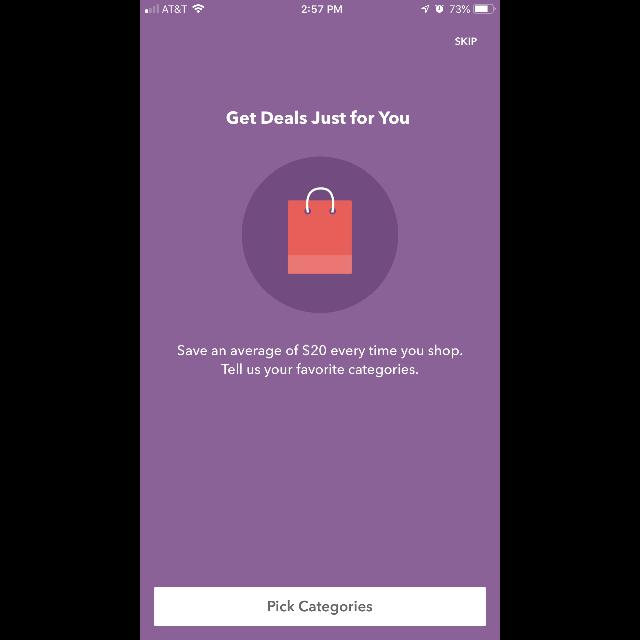image: (242, 156, 398, 314)
text: (178, 344, 462, 378), (227, 110, 409, 124), (455, 38, 477, 46)
textbutton: (154, 588, 486, 626)
uppertaskbar: (140, 0, 500, 14)
